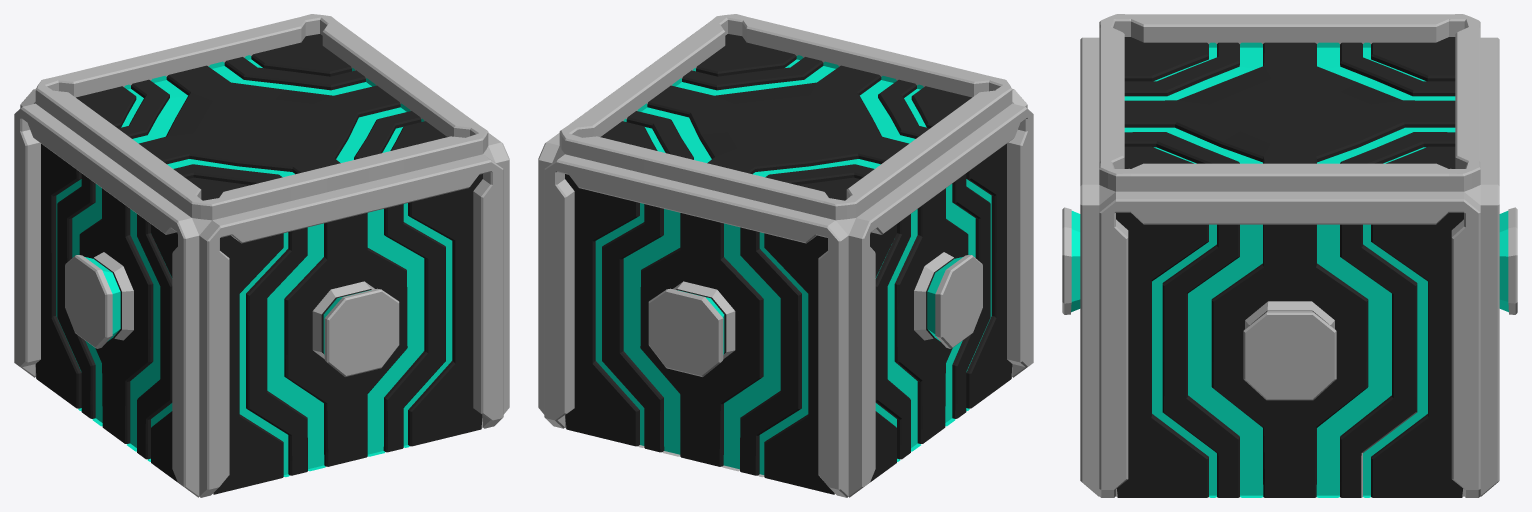
Rendered from crate_heavy_stackable_01.FBX.
3 renders of one model, left to right at view 1: azimuth 30°, elevation 25°; view 2: azimuth 150°, elevation 25°; view 3: azimuth 270°, elevation 25°, orthographic. The views are drawn at different scales.
Visible parts, largest first — view 1: crate_heavy_stackable_01; view 2: crate_heavy_stackable_01; view 3: crate_heavy_stackable_01.
Part boxes in pixels (left/top/right/bottom): crate_heavy_stackable_01: left=14, top=14, right=509, bottom=497; crate_heavy_stackable_01: left=538, top=14, right=1033, bottom=497; crate_heavy_stackable_01: left=1062, top=14, right=1517, bottom=497.
Bounding box in the file's own units: 215 × 169 × 215.
